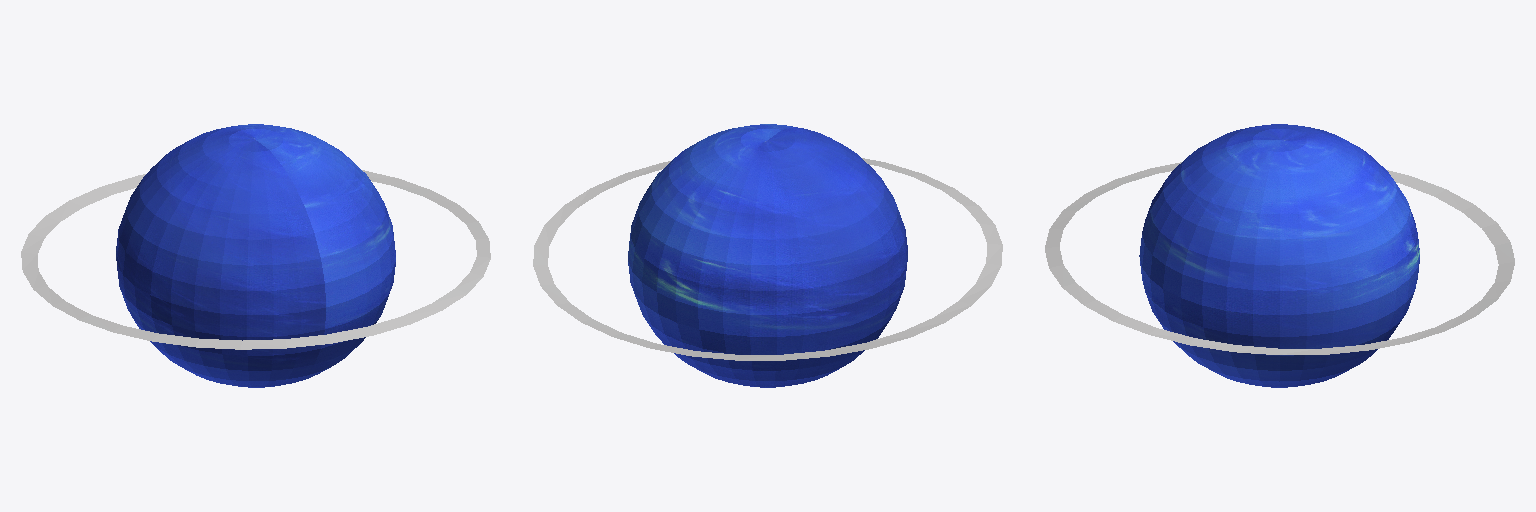
3 views of the same model, side by side, from view 1: azimuth 30°, elevation 25°; view 2: azimuth 150°, elevation 25°; view 3: azimuth 270°, elevation 25° (orthographic).
Visible parts, largest first — view 1: Sphere_Sphere.001, Circle.001; view 2: Sphere_Sphere.001, Circle.001; view 3: Sphere_Sphere.001, Circle.001.
Part boxes in pixels (left/top/right/bottom): Sphere_Sphere.001: left=116, top=124, right=395, bottom=387; Circle.001: left=21, top=170, right=490, bottom=349; Sphere_Sphere.001: left=628, top=124, right=907, bottom=387; Circle.001: left=533, top=158, right=1002, bottom=360; Sphere_Sphere.001: left=1139, top=124, right=1419, bottom=387; Circle.001: left=1045, top=162, right=1514, bottom=354.
Bounding box in the file's own units: 3.35 × 1.82 × 3.35.
2 materials, 2 textured.